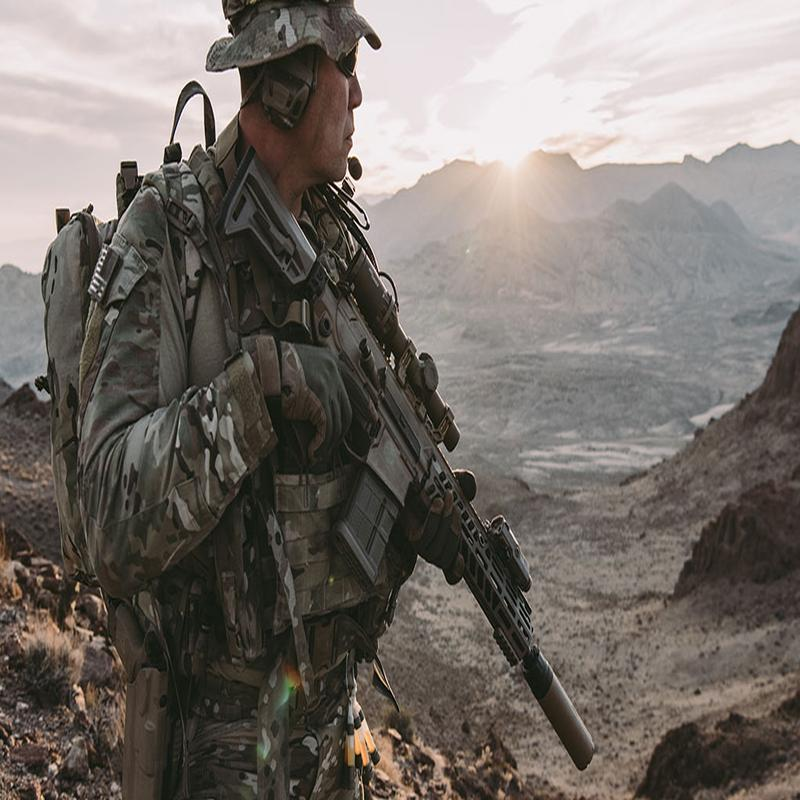GUN: (205, 136, 651, 785)
